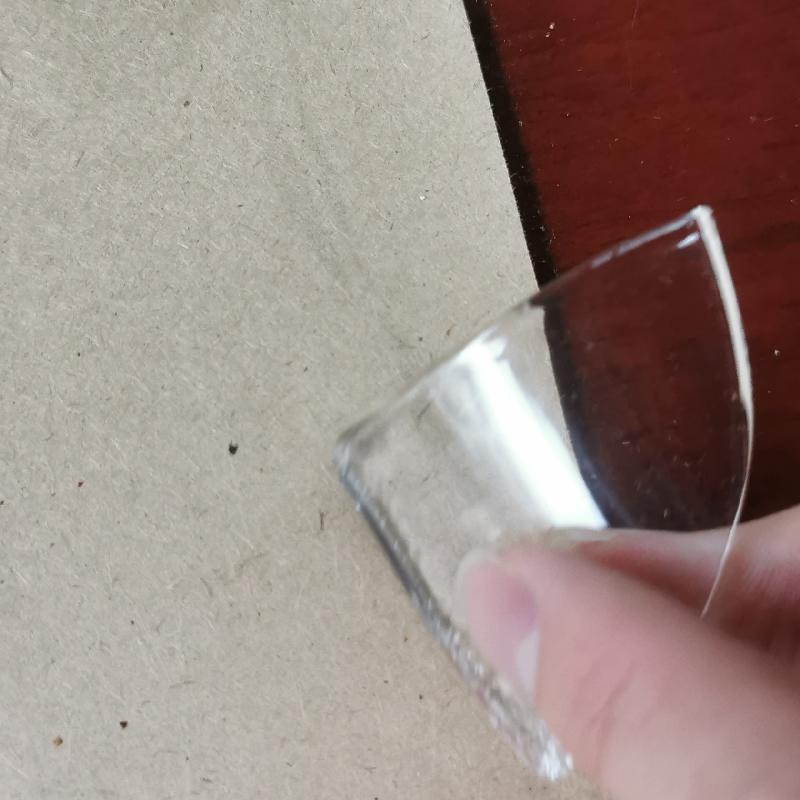glass: (315, 208, 756, 780)
